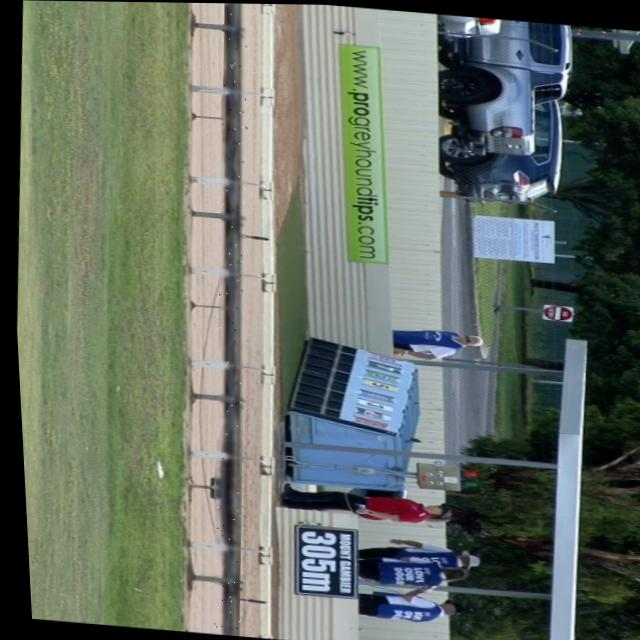rail: (214, 3, 240, 635)
